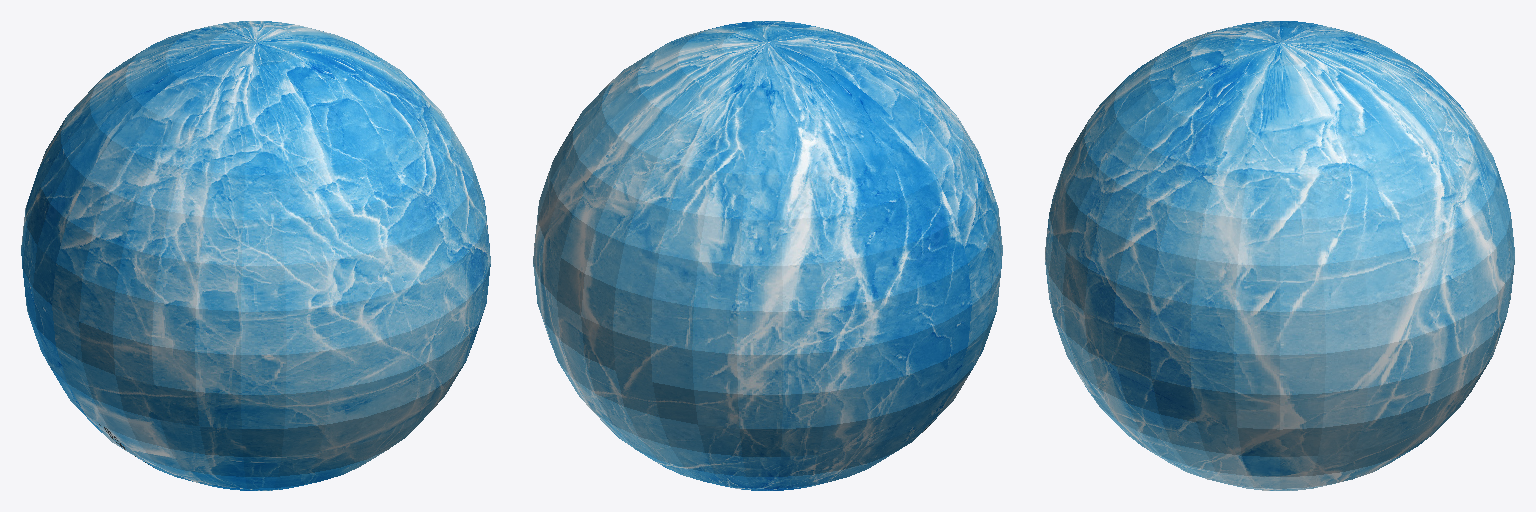
3 views of the same model, side by side, from view 1: azimuth 30°, elevation 25°; view 2: azimuth 150°, elevation 25°; view 3: azimuth 270°, elevation 25° (orthographic).
Parts seen in each view (by area): view 1: Sphere; view 2: Sphere; view 3: Sphere.
Part boxes in pixels (x1,y1,x2,y2): Sphere: (21,21,490,490); Sphere: (533,21,1002,490); Sphere: (1045,21,1514,490).
Bounding box in the file's own units: 1 × 1 × 1.
1 materials, 1 textured.